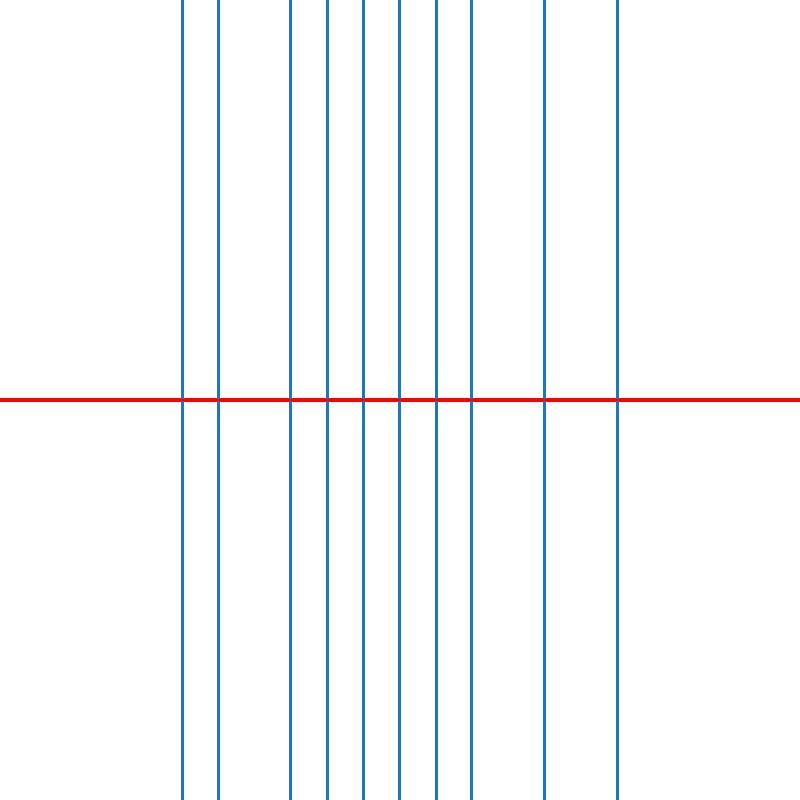root: (541, 396, 549, 404), (432, 396, 440, 404), (178, 396, 185, 404), (469, 396, 476, 404), (360, 396, 367, 404), (287, 396, 294, 404), (214, 396, 221, 404), (323, 396, 330, 404), (396, 396, 403, 404), (614, 396, 621, 404)
